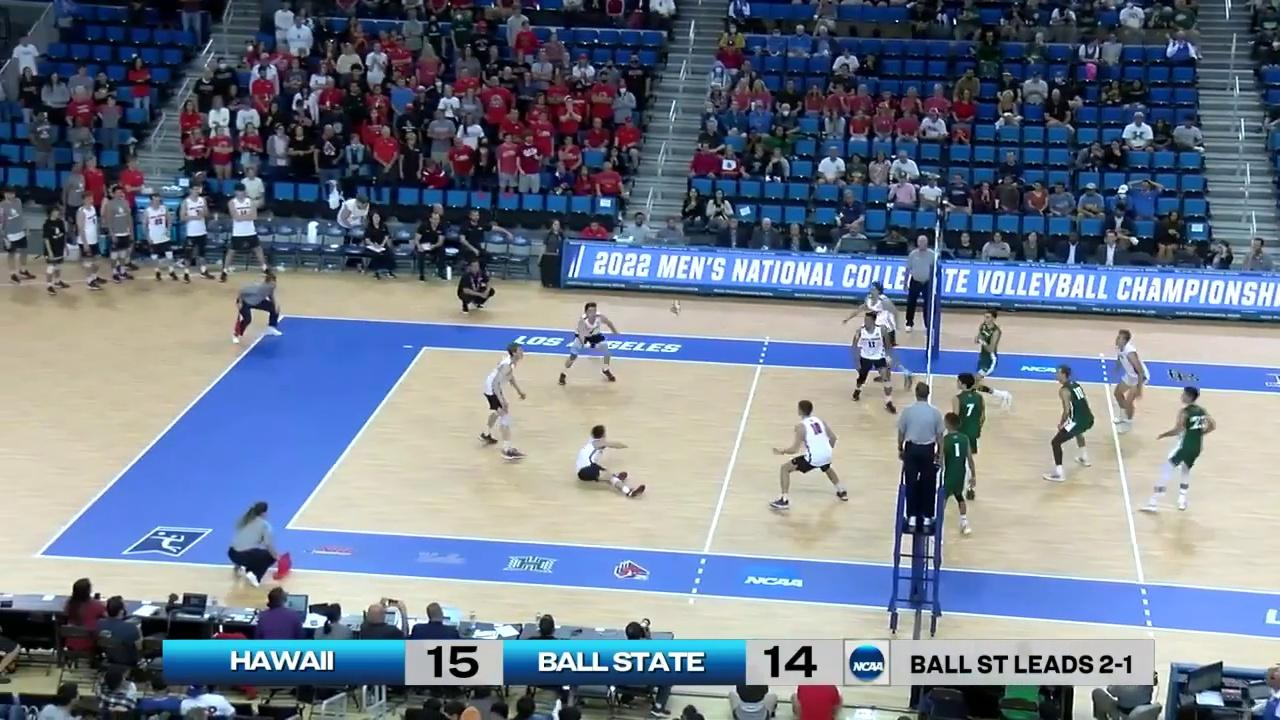player: (1143, 387, 1215, 519), (774, 402, 849, 509), (1044, 366, 1094, 482), (476, 346, 526, 458), (935, 414, 973, 543), (578, 425, 645, 497), (950, 372, 985, 507), (853, 284, 901, 382), (963, 310, 1011, 407), (560, 302, 615, 385), (853, 312, 895, 414), (1111, 330, 1149, 437)
refree: (898, 381, 941, 530), (227, 499, 291, 588), (232, 272, 280, 343), (907, 234, 938, 336)
